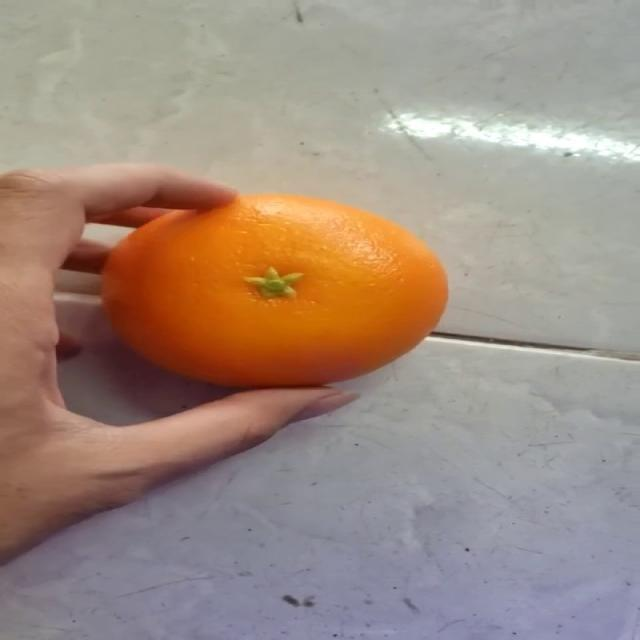Orange: (99, 191, 449, 388)
